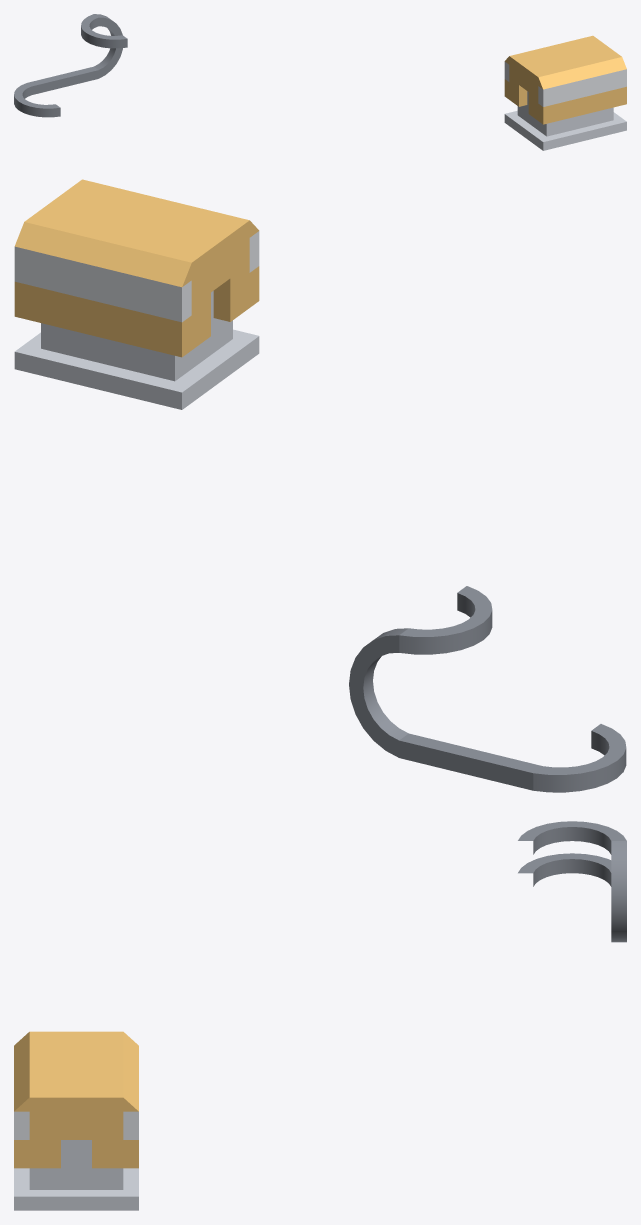
The model's file is machine_generator.glb.
3 views of the same model, one above another, from view 1: azimuth 30°, elevation 25°; view 2: azimuth 150°, elevation 25°; view 3: azimuth 270°, elevation 25° (orthographic). The views are drawn at different scales.
Visible parts, largest first — view 1: machine_generator, cable; view 2: machine_generator, cable; view 3: machine_generator, cable.
Boxes of the visible parts, x1,y1,x2,y2 form: machine_generator: (504,35,626,150); cable: (14,14,127,117); machine_generator: (14,179,259,409); cable: (349,586,626,792); machine_generator: (14,1031,138,1210); cable: (518,821,626,942).
Size of the model in its own units: 2.6 by 0.4 by 1.96.
